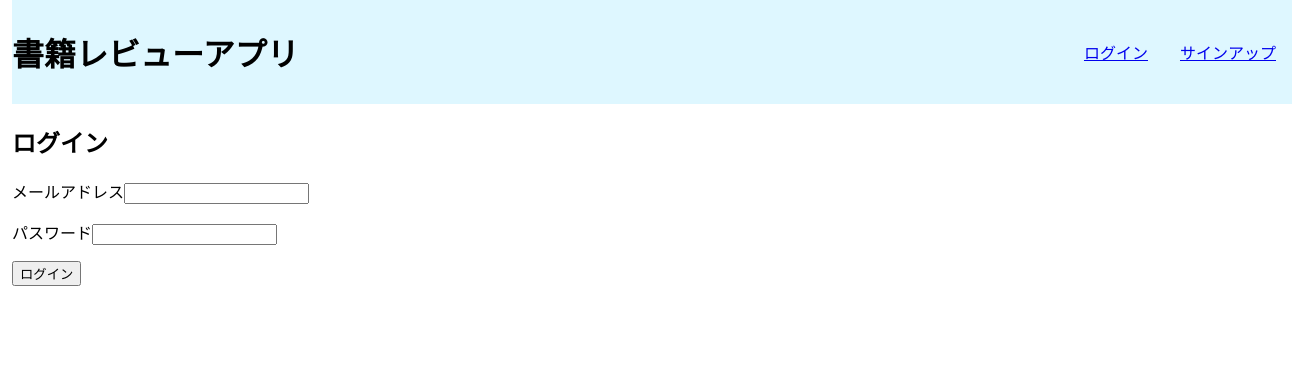
Scenario: 入力フォームテスト › パスワードエラー表示チェック
The image size is (1292, 383).
Type "abcd" into the password field labelled "パスワード". click: (185, 235)
box: x1=92 y1=224 x2=277 y2=245
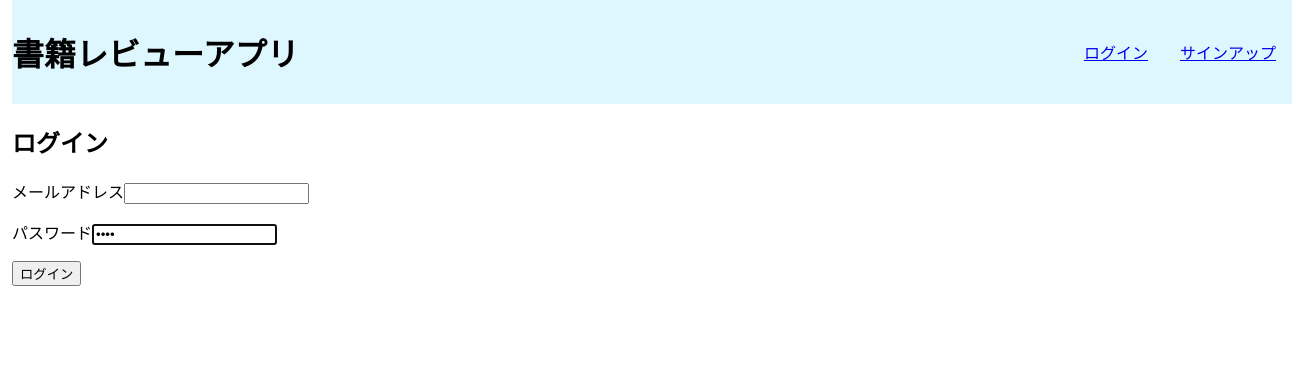
Click the button with class "submit". click: (47, 274)
box: x1=12 y1=261 x2=81 y2=286
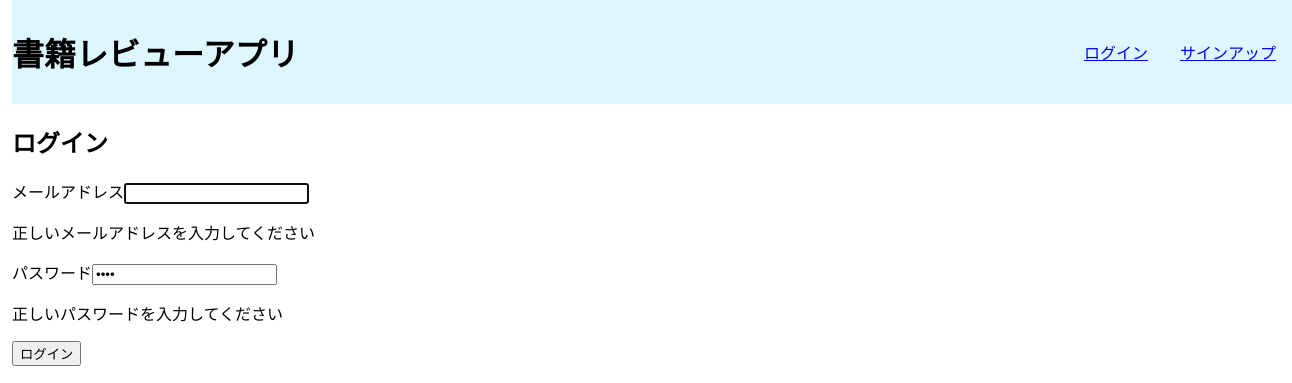
Expected: the text "正しいパスワードを入力してください" is shown, x1=12 y1=304 x2=283 y2=324
